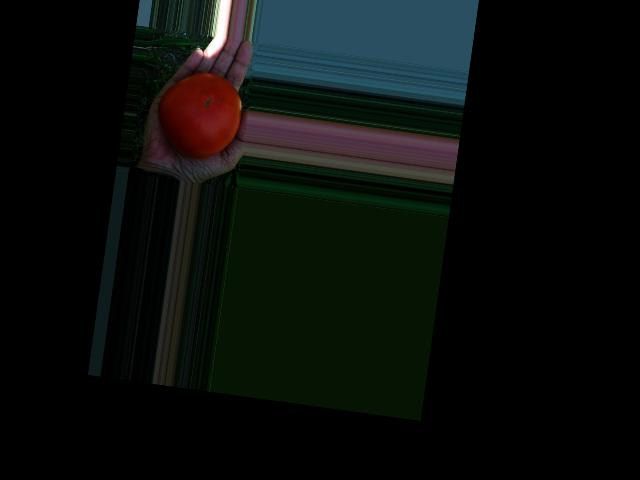tomato: (151, 66, 246, 162)
